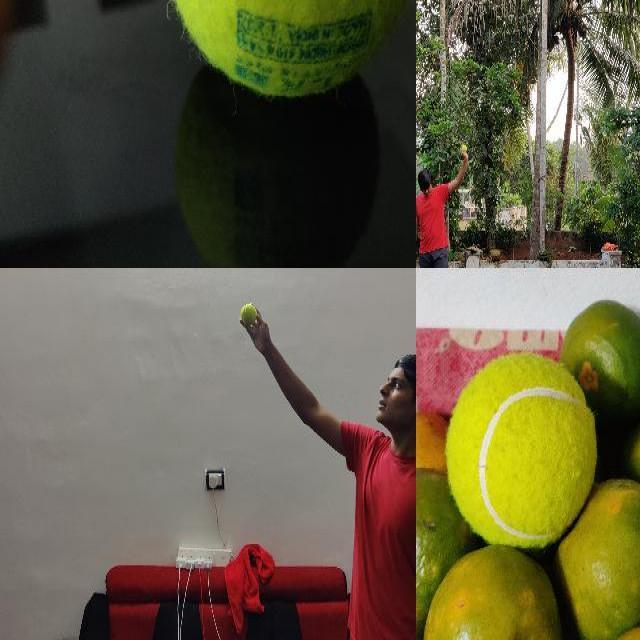tennis-ball: (156, 0, 415, 100), (447, 352, 564, 538), (240, 303, 257, 325), (462, 145, 467, 151)
